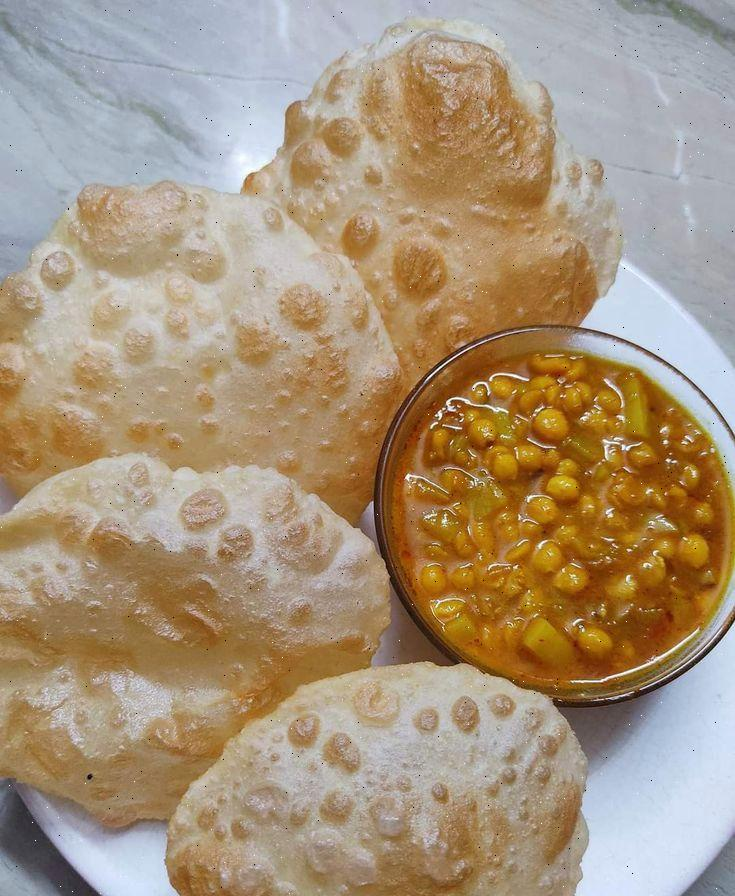chole: (406, 371, 735, 640)
puri: (10, 209, 377, 793), (268, 33, 590, 314), (220, 691, 586, 896)
